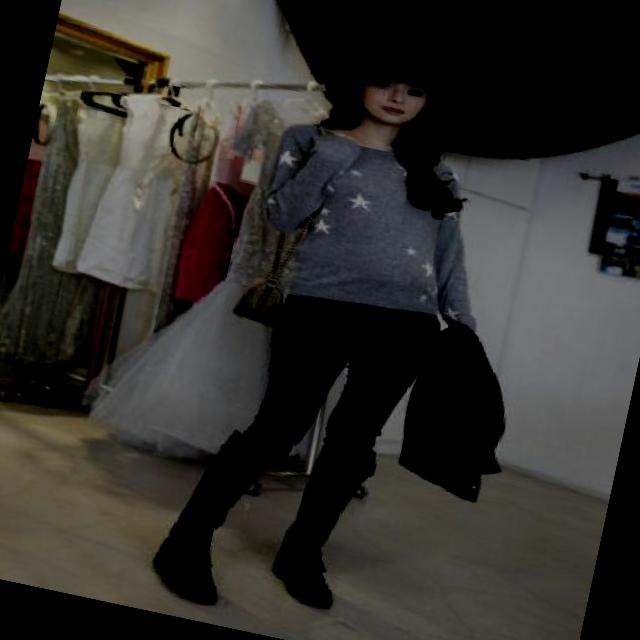Person: (74, 3, 553, 640)
